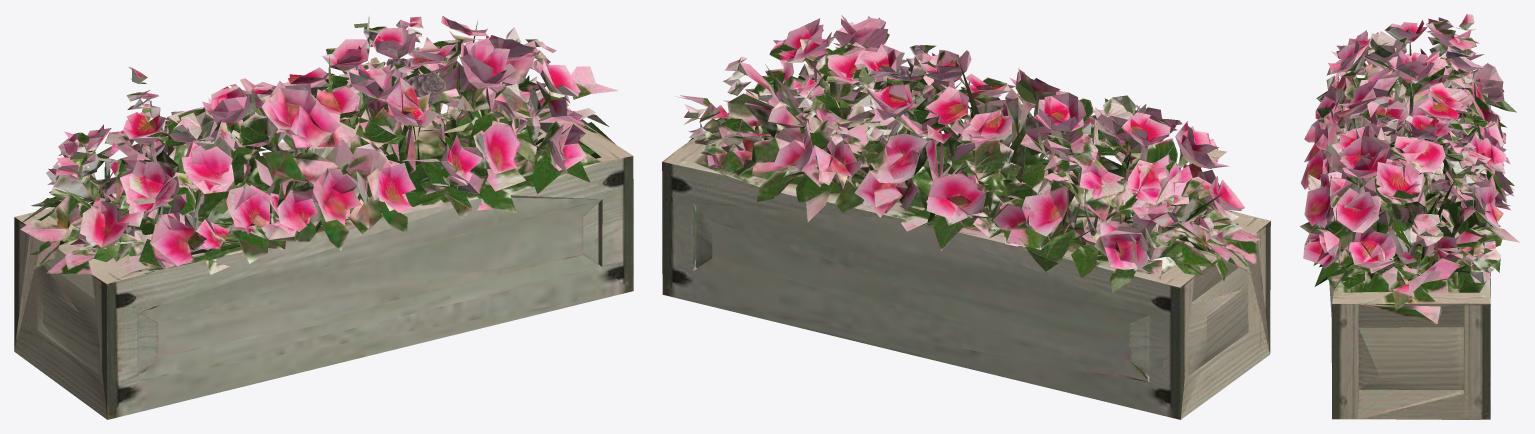
File: planter_box.glb
The picture shows the model from 3 angles, left to right: view 1: azimuth 30°, elevation 25°; view 2: azimuth 150°, elevation 25°; view 3: azimuth 270°, elevation 25°; orthographic projection. The views are drawn at different scales.
Size of the model in its own units: 1.9 by 0.838 by 0.7299.
Materials: 1 (1 with a texture image).
